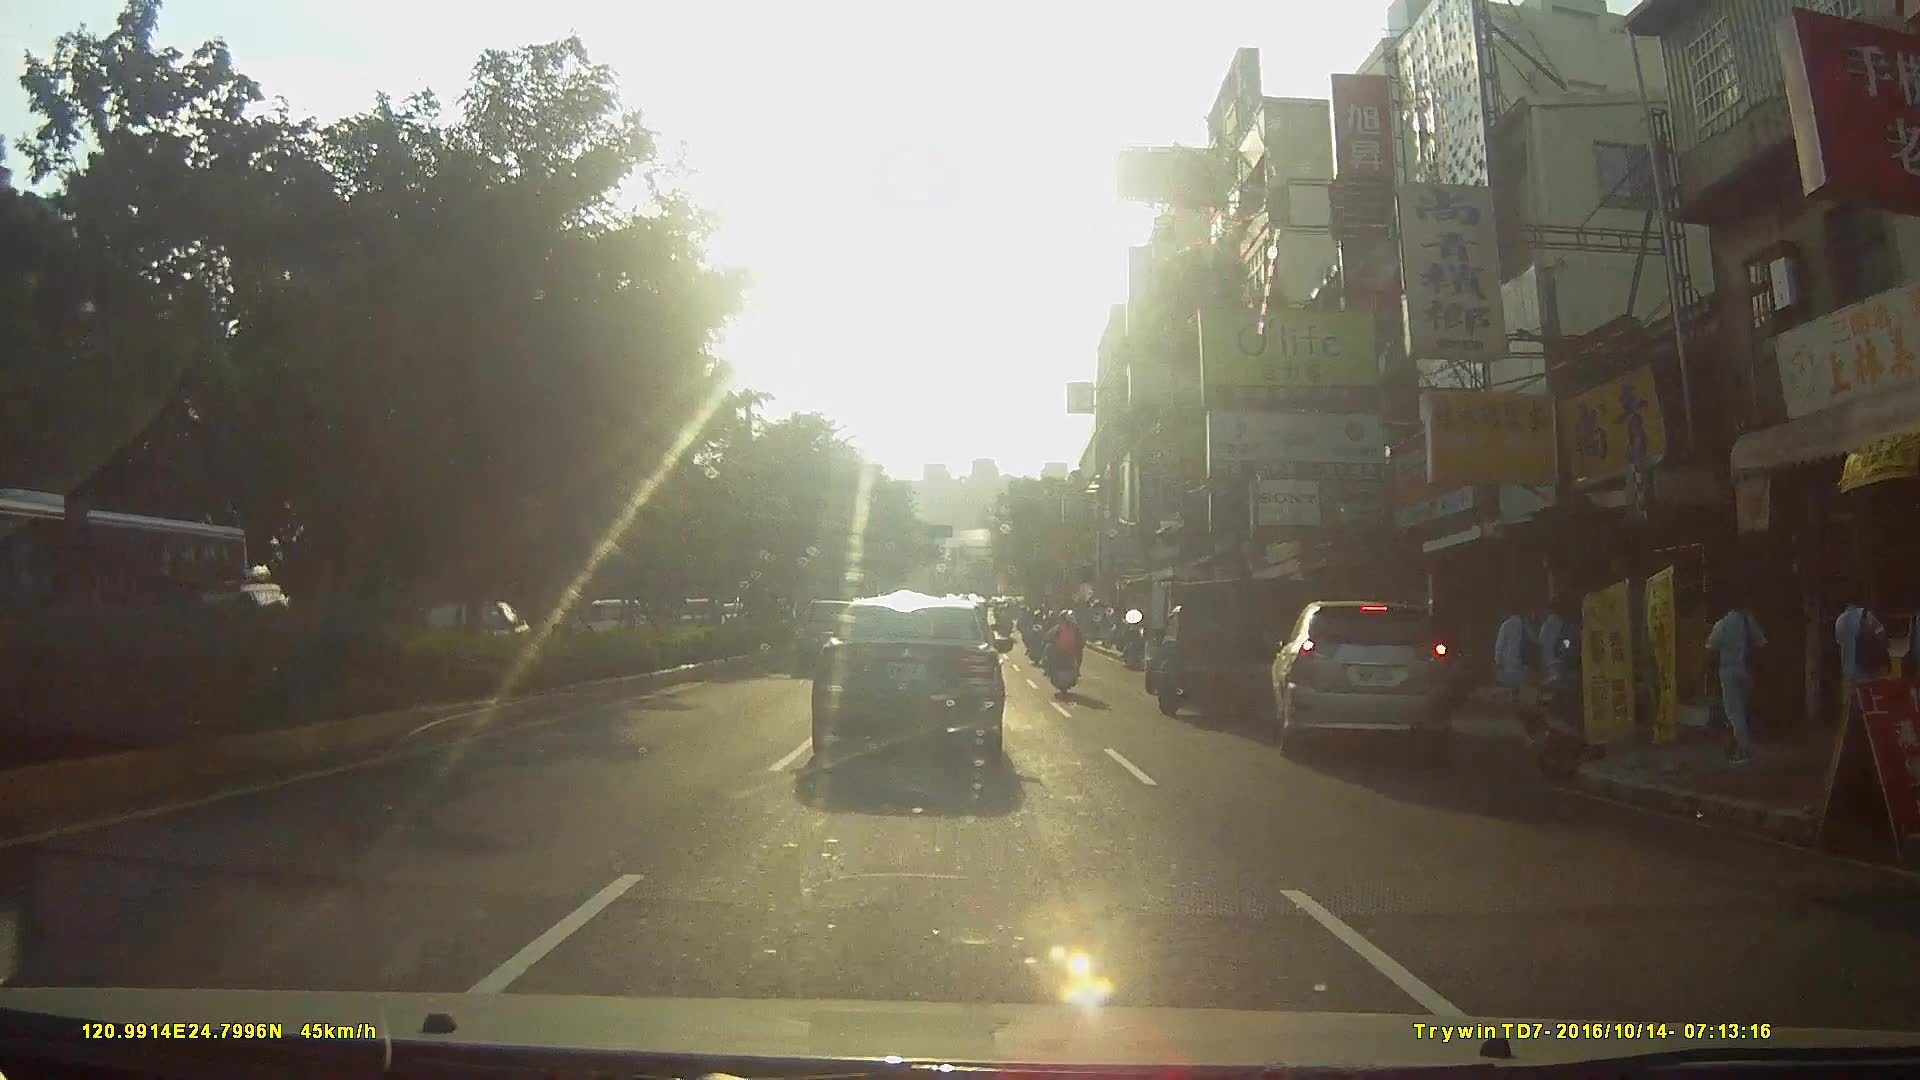pedestrian: (1705, 587, 1774, 771), (1836, 579, 1895, 778), (1491, 593, 1547, 722), (1901, 583, 1920, 766)
rider: (1042, 604, 1083, 697), (1024, 610, 1050, 665)
vehicle: (1, 496, 255, 670), (808, 592, 1025, 777), (1262, 592, 1478, 775), (1132, 570, 1281, 735)
